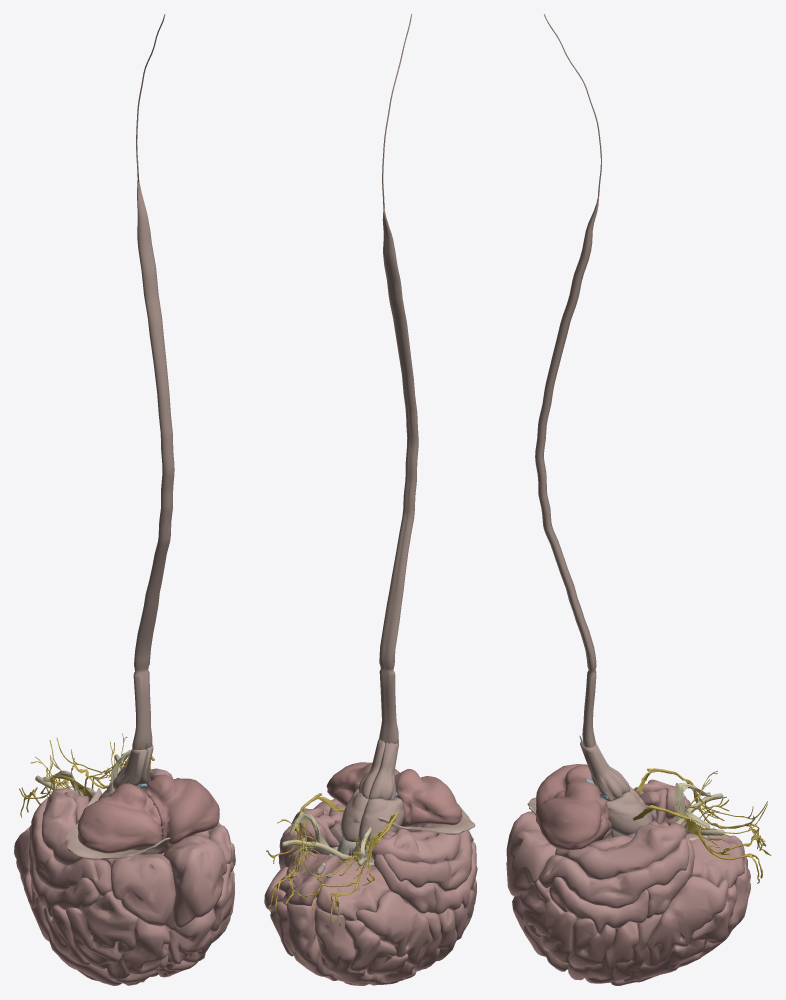
The model's file is nervous.glb.
3 renders of one model, left to right at view 1: azimuth 30°, elevation 25°; view 2: azimuth 150°, elevation 25°; view 3: azimuth 270°, elevation 25°, orthographic. The views are drawn at different scales.
Parts seen in each view (by area): view 1: MOD_spinal_cord, FJ1830, FJ1791, FJ1792, FJ1733, FJ1781, FJ1790, FJ1836, FJ1747, FJ1835, FJ1840, FJ1843 (+6 smaller); view 2: MOD_spinal_cord, FJ1745, FJ1830, FJ1794, FJ1834, FJ1790, FJ1788, FJ1747, FJ1833, FJ1793, FJ1838, FJ1822 (+13 smaller); view 3: MOD_spinal_cord, FJ1789, FJ1781, FJ1744, FJ1746, FJ1732, FJ1839, FJ1791, FJ1787, FJ1793, FJ1841, FJ1797 (+7 smaller).
Part boxes in pixels (<box>): MOD_spinal_cord: <box>132,178,174,749</box>; FJ1830: <box>77,783,162,853</box>; FJ1791: <box>163,835,227,928</box>; FJ1792: <box>110,853,175,931</box>; FJ1733: <box>66,891,138,968</box>; FJ1781: <box>142,774,219,854</box>; FJ1790: <box>30,797,112,896</box>; FJ1836: <box>107,918,170,983</box>; FJ1747: <box>41,788,115,867</box>; FJ1835: <box>164,908,216,975</box>; FJ1840: <box>31,858,98,917</box>; FJ1843: <box>65,788,170,859</box>; MOD_spinal_cord: <box>379,208,418,743</box>; FJ1745: <box>355,891,432,965</box>; FJ1830: <box>395,769,462,826</box>; FJ1794: <box>316,859,391,920</box>; FJ1834: <box>314,908,416,985</box>; FJ1790: <box>383,830,473,891</box>; FJ1788: <box>345,919,414,982</box>; FJ1747: <box>371,824,460,863</box>; FJ1833: <box>284,897,337,980</box>; FJ1793: <box>276,851,341,905</box>; FJ1838: <box>374,854,436,913</box>; FJ1822: <box>358,797,404,845</box>; MOD_spinal_cord: <box>535,194,598,747</box>; FJ1789: <box>538,838,689,908</box>; FJ1781: <box>536,781,611,850</box>; FJ1744: <box>643,876,728,967</box>; FJ1746: <box>555,822,686,879</box>; FJ1732: <box>518,879,576,964</box>; FJ1839: <box>549,877,648,933</box>; FJ1791: <box>506,829,556,896</box>; FJ1787: <box>624,884,736,981</box>; FJ1793: <box>686,834,744,887</box>; FJ1841: <box>568,918,615,967</box>; FJ1797: <box>567,921,638,980</box>.
Size of the model in its own units: 130 by 683 by 171.
